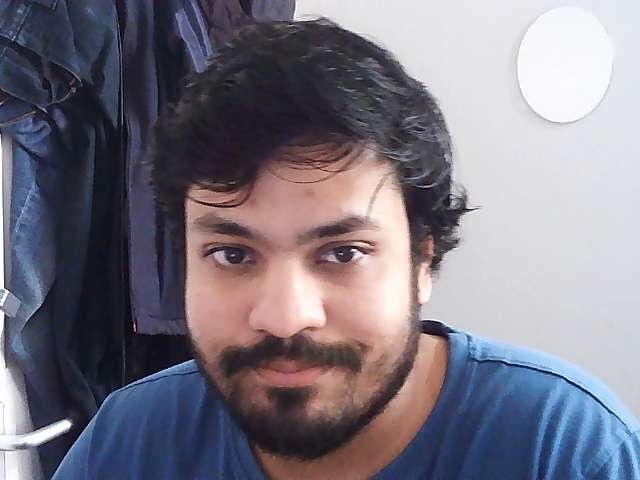Face: (153, 15, 434, 446)
